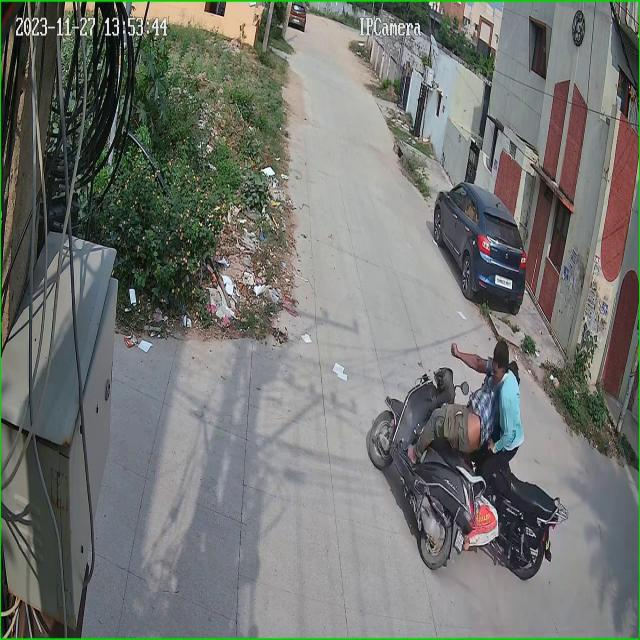accident: (366, 320, 574, 601)
